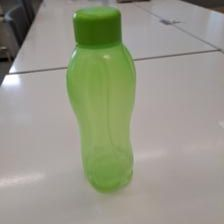bottle: (63, 4, 139, 190)
